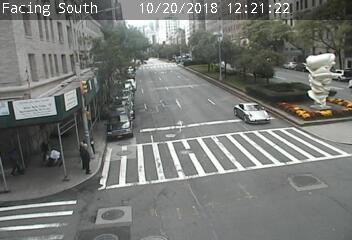car: (234, 102, 270, 124)
